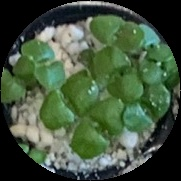Basil: (39, 72, 95, 127), (74, 96, 123, 157), (91, 47, 142, 98), (121, 85, 168, 131), (137, 42, 179, 86), (93, 15, 140, 53), (26, 44, 66, 86), (1, 57, 36, 105)
